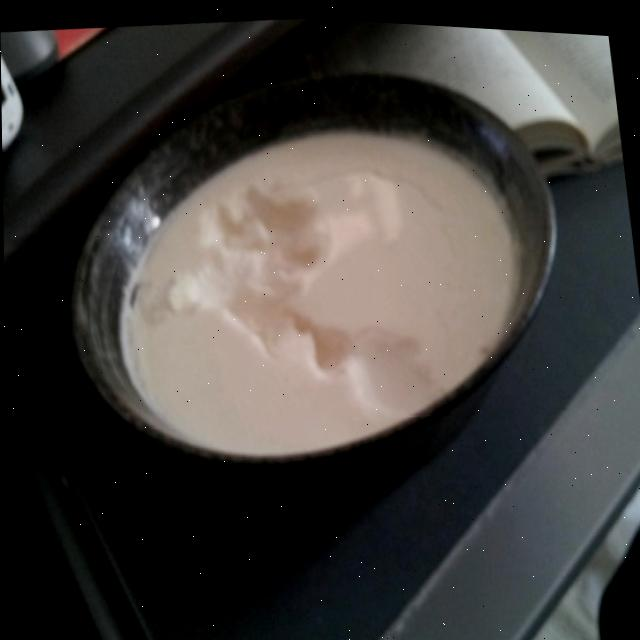刺身生食: (1, 86, 640, 531)
